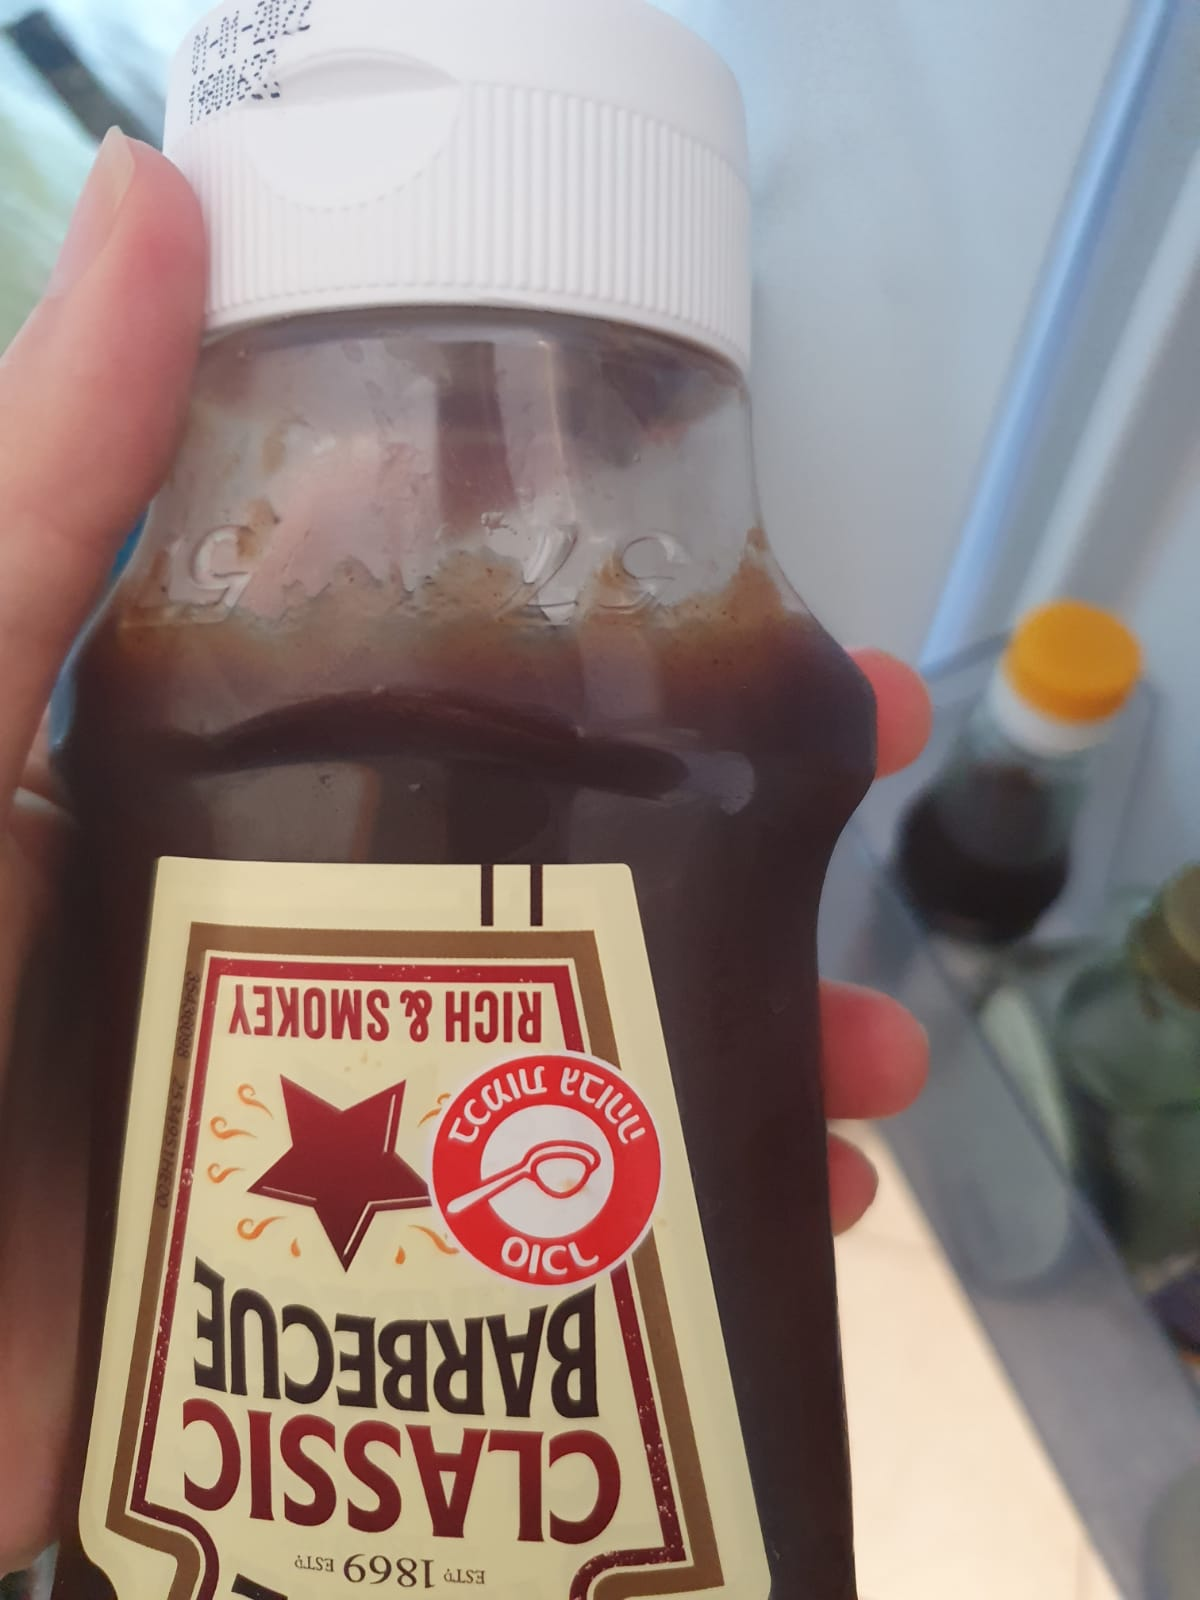sugar: (429, 1046, 666, 1285)
